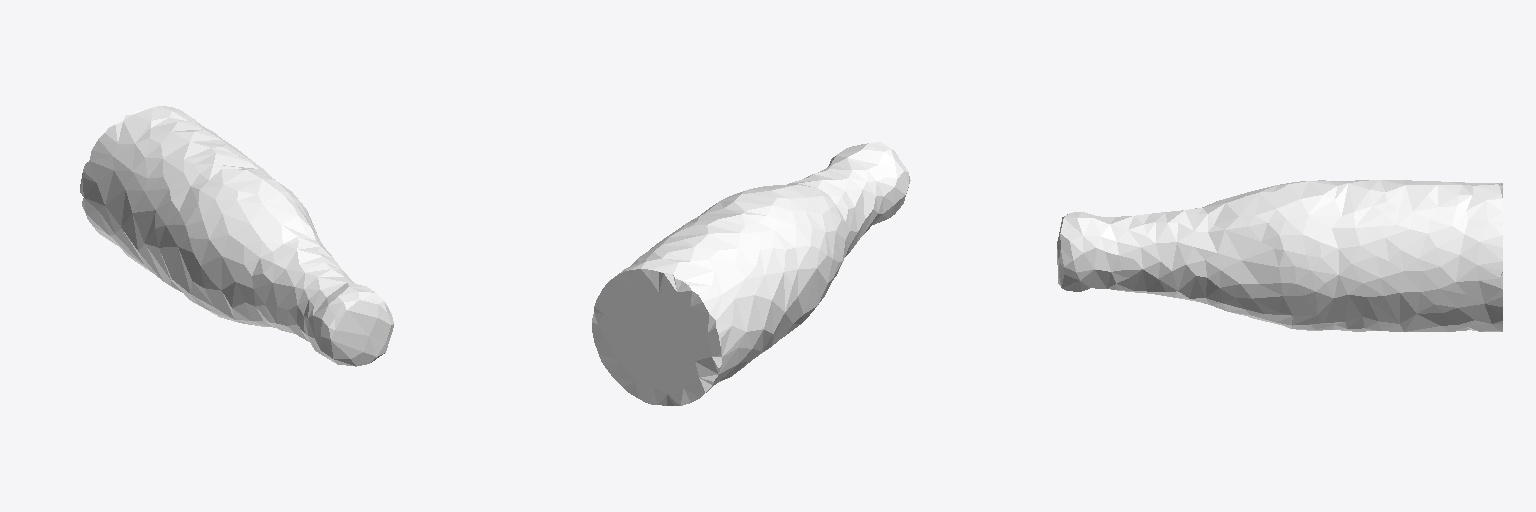
The model's file is fuze_bottle_visual.obj.
3 views of the same model, side by side, from view 1: azimuth 30°, elevation 25°; view 2: azimuth 150°, elevation 25°; view 3: azimuth 270°, elevation 25° (orthographic).
Size of the model in its own units: 0.0726 by 0.0735 by 0.2151.